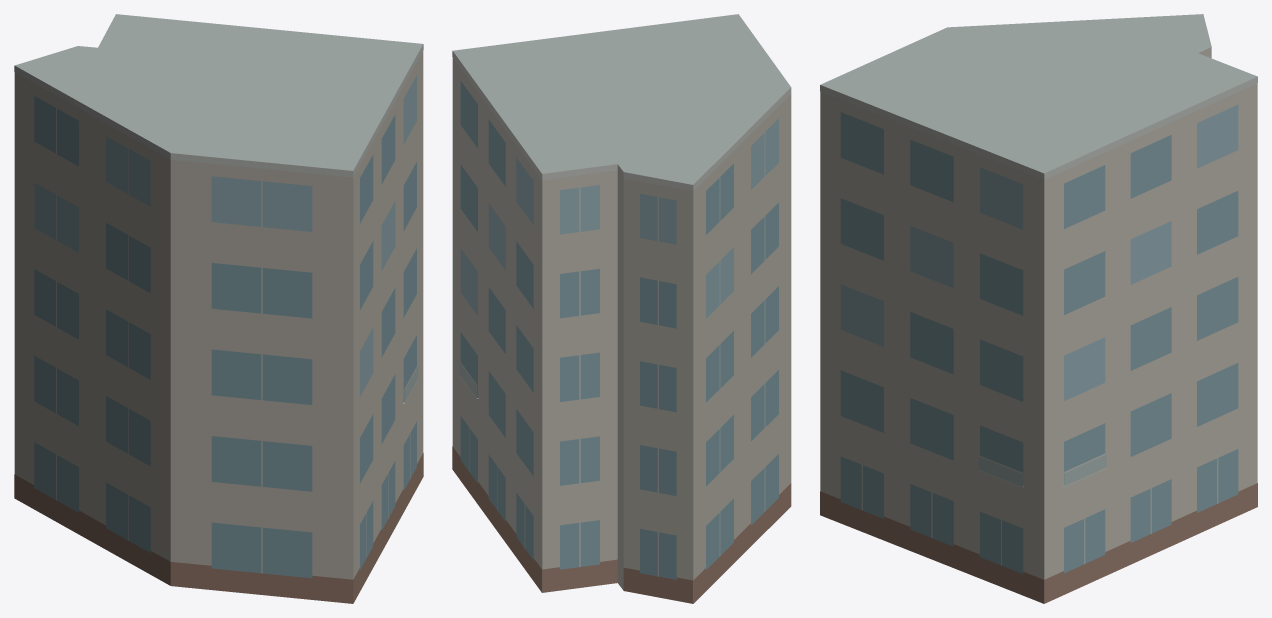
File: survey-upis-32988989.glb
3 renders of one model, left to right at view 1: azimuth 30°, elevation 25°; view 2: azimuth 150°, elevation 25°; view 3: azimuth 270°, elevation 25°, orthographic. The views are drawn at different scales.
Parts seen in each view (by area): view 1: survey-upis-32988989.tmp; view 2: survey-upis-32988989.tmp; view 3: survey-upis-32988989.tmp.
Part boxes in pixels (bbox=[...]): survey-upis-32988989.tmp: bbox=[14, 14, 423, 603]; survey-upis-32988989.tmp: bbox=[452, 14, 791, 603]; survey-upis-32988989.tmp: bbox=[820, 14, 1257, 603].
Size of the model in its own units: 12.72 by 16 by 14.75.
